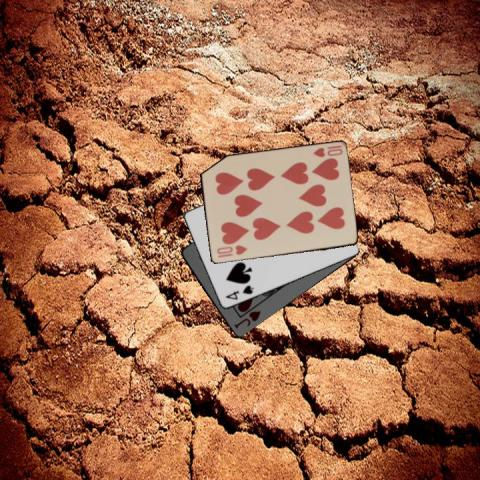10h: (213, 242, 248, 259), (310, 142, 344, 158)
4s: (222, 283, 255, 301)
Jh: (231, 308, 262, 331)
